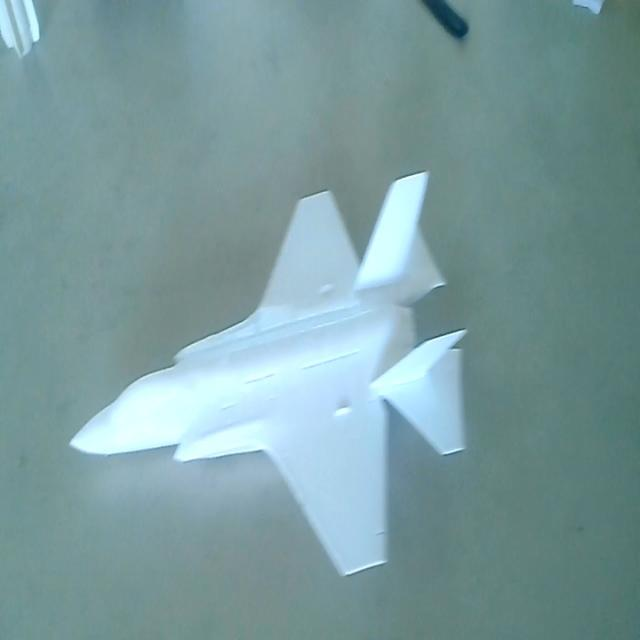Jet: (63, 159, 469, 593)
